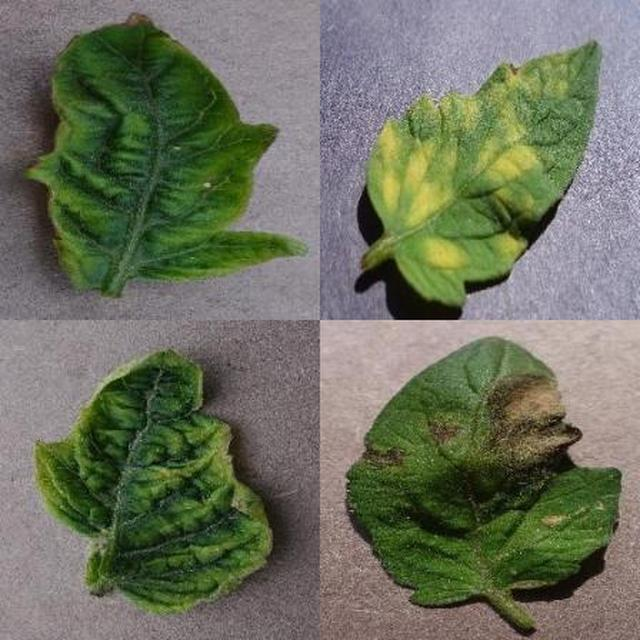Yellow Leaf Curl Virus: (220, 219, 640, 640)
